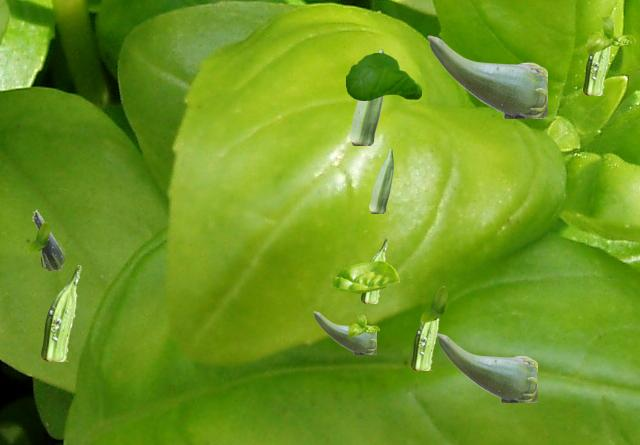okra: (427, 35, 546, 117), (436, 333, 536, 401), (41, 265, 80, 360), (349, 49, 384, 144), (313, 311, 375, 353), (32, 209, 63, 269), (361, 238, 387, 302), (369, 148, 392, 212), (411, 318, 439, 369), (583, 46, 611, 94)
